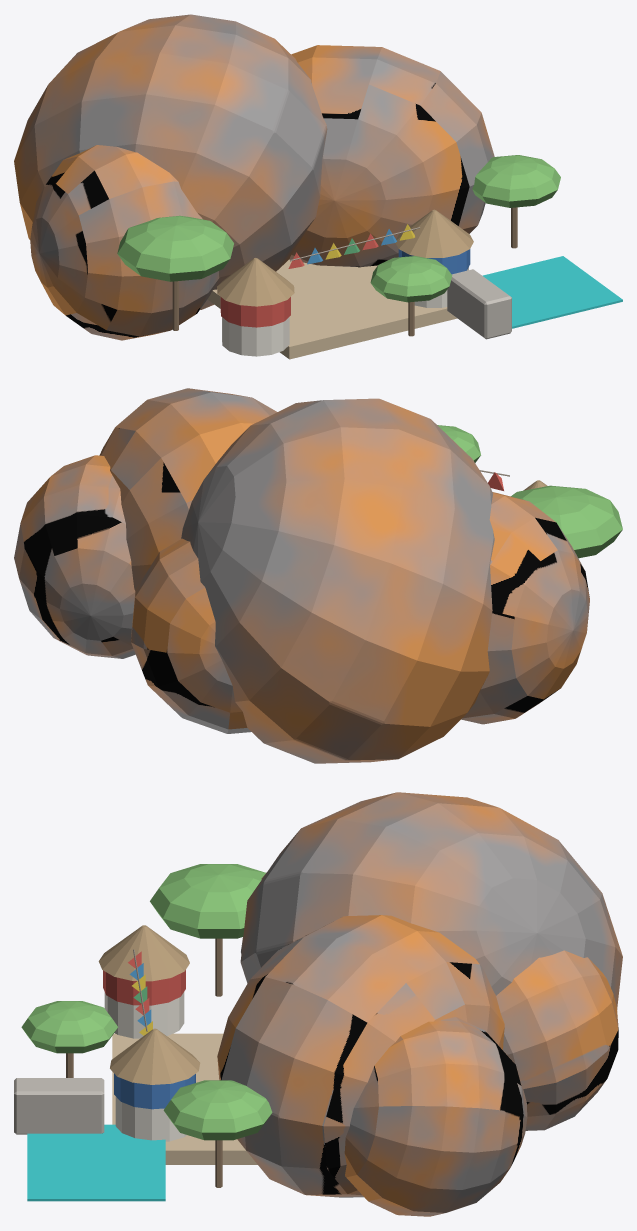
Rendered from jawai_hills.glb.
3 renders of one model, top to bottom at view 1: azimuth 30°, elevation 25°; view 2: azimuth 150°, elevation 25°; view 3: azimuth 270°, elevation 25°, orthographic. The views are drawn at different scales.
Visible parts, largest first — view 1: JawaiHills; view 2: JawaiHills; view 3: JawaiHills.
Boxes of the visible parts, box(x1,y1,x2,y2) form: JawaiHills: box(14, 14, 622, 359); JawaiHills: box(14, 388, 622, 763); JawaiHills: box(14, 792, 622, 1216).
Size of the model in its own units: 11.39 by 6.55 by 11.44.
24 materials, 1 textured.
